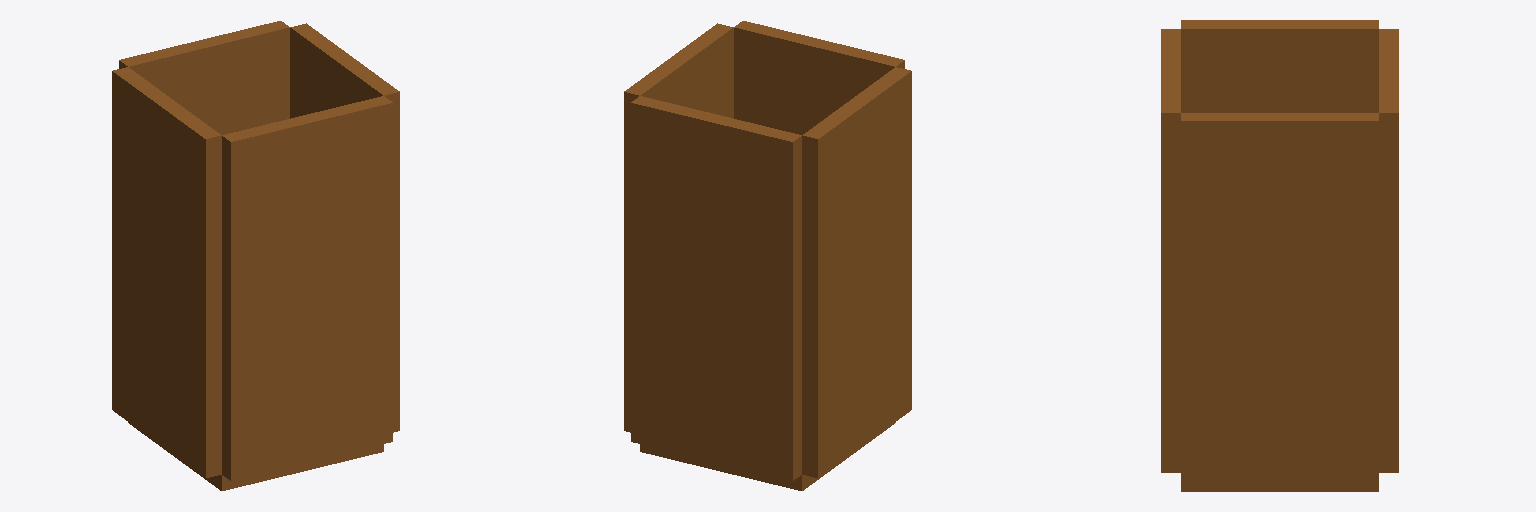
URDF robot description (crate):
<?xml version="1.0"?>
<robot name="crate">

  <!-- Bottom panel -->
  <link name="base">
    <inertial>
      <mass value="0"/>
      <inertia ixx="0.0" ixy="0.0" ixz="0.0" iyy="0.0" iyz="0.0" izz="0.0"/>
    </inertial>
    <visual>
      <geometry>
        <box size="0.5 0.5 0.05"/>
      </geometry>
      <origin xyz="0 0 0" rpy="0 0 0"/>
      <material name="wood">
        <color rgba="0.6 0.4 0.2 1.0"/>
      </material>
    </visual>
    <collision>
      <geometry>
        <box size="0.5 0.5 0.05"/>
      </geometry>
      <origin xyz="0 0 0" rpy="0 0 0"/>
    </collision>
  </link>

  <!-- Left wall -->
  <link name="side_left">
    <inertial>
      <mass value="0"/>
      <inertia ixx="0.0" ixy="0.0" ixz="0.0" iyy="0.0" iyz="0.0" izz="0.0"/>
    </inertial>
    <visual>
      <geometry>
        <box size="0.5 0.05 1.0"/>
      </geometry>
      <origin xyz="0 0 0" rpy="0 0 0"/>
      <material name="wood"/>
    </visual>
    <collision>
      <geometry>
        <box size="0.5 0.05 1.0"/>
      </geometry>
      <origin xyz="0 0 0" rpy="0 0 0"/>
    </collision>
  </link>

  <joint name="side_left_joint" type="fixed">
    <parent link="base"/>
    <child link="side_left"/>
    <origin xyz="0 0.275 0.525" rpy="0 0 0"/>
  </joint>

  <!-- Right wall -->
  <link name="side_right">
    <inertial>
      <mass value="0"/>
      <inertia ixx="0.0" ixy="0.0" ixz="0.0" iyy="0.0" iyz="0.0" izz="0.0"/>
    </inertial>
    <visual>
      <geometry>
        <box size="0.5 0.05 1.0"/>
      </geometry>
      <origin xyz="0 0 0" rpy="0 0 0"/>
      <material name="wood"/>
    </visual>
    <collision>
      <geometry>
        <box size="0.5 0.05 1.0"/>
      </geometry>
      <origin xyz="0 0 0" rpy="0 0 0"/>
    </collision>
  </link>

  <joint name="side_right_joint" type="fixed">
    <parent link="base"/>
    <child link="side_right"/>
    <origin xyz="0 -0.275 0.525" rpy="0 0 0"/>
  </joint>

  <!-- Front wall -->
  <link name="front">
    <inertial>
      <mass value="0"/>
      <inertia ixx="0.0" ixy="0.0" ixz="0.0" iyy="0.0" iyz="0.0" izz="0.0"/>
    </inertial>
    <visual>
      <geometry>
        <box size="0.05 0.5 1.0"/>
      </geometry>
      <origin xyz="0 0 0" rpy="0 0 0"/>
      <material name="wood"/>
    </visual>
    <collision>
      <geometry>
        <box size="0.05 0.5 1.0"/>
      </geometry>
      <origin xyz="0 0 0" rpy="0 0 0"/>
    </collision>
  </link>

  <joint name="front_joint" type="fixed">
    <parent link="base"/>
    <child link="front"/>
    <origin xyz="0.275 0 0.525" rpy="0 0 0"/>
  </joint>

  <!-- Back wall -->
  <link name="back">
    <inertial>
      <mass value="0"/>
      <inertia ixx="0.0" ixy="0.0" ixz="0.0" iyy="0.0" iyz="0.0" izz="0.0"/>
    </inertial>
    <visual>
      <geometry>
        <box size="0.05 0.5 1.0"/>
      </geometry>
      <origin xyz="0 0 0" rpy="0 0 0"/>
      <material name="wood"/>
    </visual>
    <collision>
      <geometry>
        <box size="0.05 0.5 1.0"/>
      </geometry>
      <origin xyz="0 0 0" rpy="0 0 0"/>
    </collision>
  </link>

  <joint name="back_joint" type="fixed">
    <parent link="base"/>
    <child link="back"/>
    <origin xyz="-0.275 0 0.525" rpy="0 0 0"/>
  </joint>

</robot>

--- Render facts (derived) ---
Views: 3 orthographic renders of the robot side by side, from view 1: azimuth 30°, elevation 25°; view 2: azimuth 150°, elevation 25°; view 3: azimuth 270°, elevation 25°.
Model crate with 5 links and 4 joints (4 fixed), rooted at base, posed all joints at 0.
Links seen in each view (by area): view 1: side_right, back, side_left, front, base; view 2: side_left, back, side_right, front, base; view 3: front, back, side_left, side_right, base.
Link boxes in pixels (left/top/right/bottom): side_right: left=222, top=96, right=392, bottom=480; back: left=112, top=67, right=221, bottom=477; side_left: left=119, top=21, right=289, bottom=134; front: left=290, top=23, right=399, bottom=432; base: left=128, top=422, right=383, bottom=490; side_left: left=631, top=96, right=801, bottom=480; back: left=802, top=67, right=911, bottom=477; side_right: left=734, top=21, right=904, bottom=134; front: left=624, top=23, right=733, bottom=432; base: left=640, top=422, right=895, bottom=490; front: left=1181, top=113, right=1378, bottom=481; back: left=1181, top=20, right=1378, bottom=112; side_left: left=1379, top=29, right=1398, bottom=472; side_right: left=1161, top=29, right=1180, bottom=472; base: left=1181, top=482, right=1378, bottom=491.
Size in the robot's own frame: 0.6 by 0.6 by 1.05 metres.
Geometry: primitives only (box / cylinder / sphere), no mesh files.
